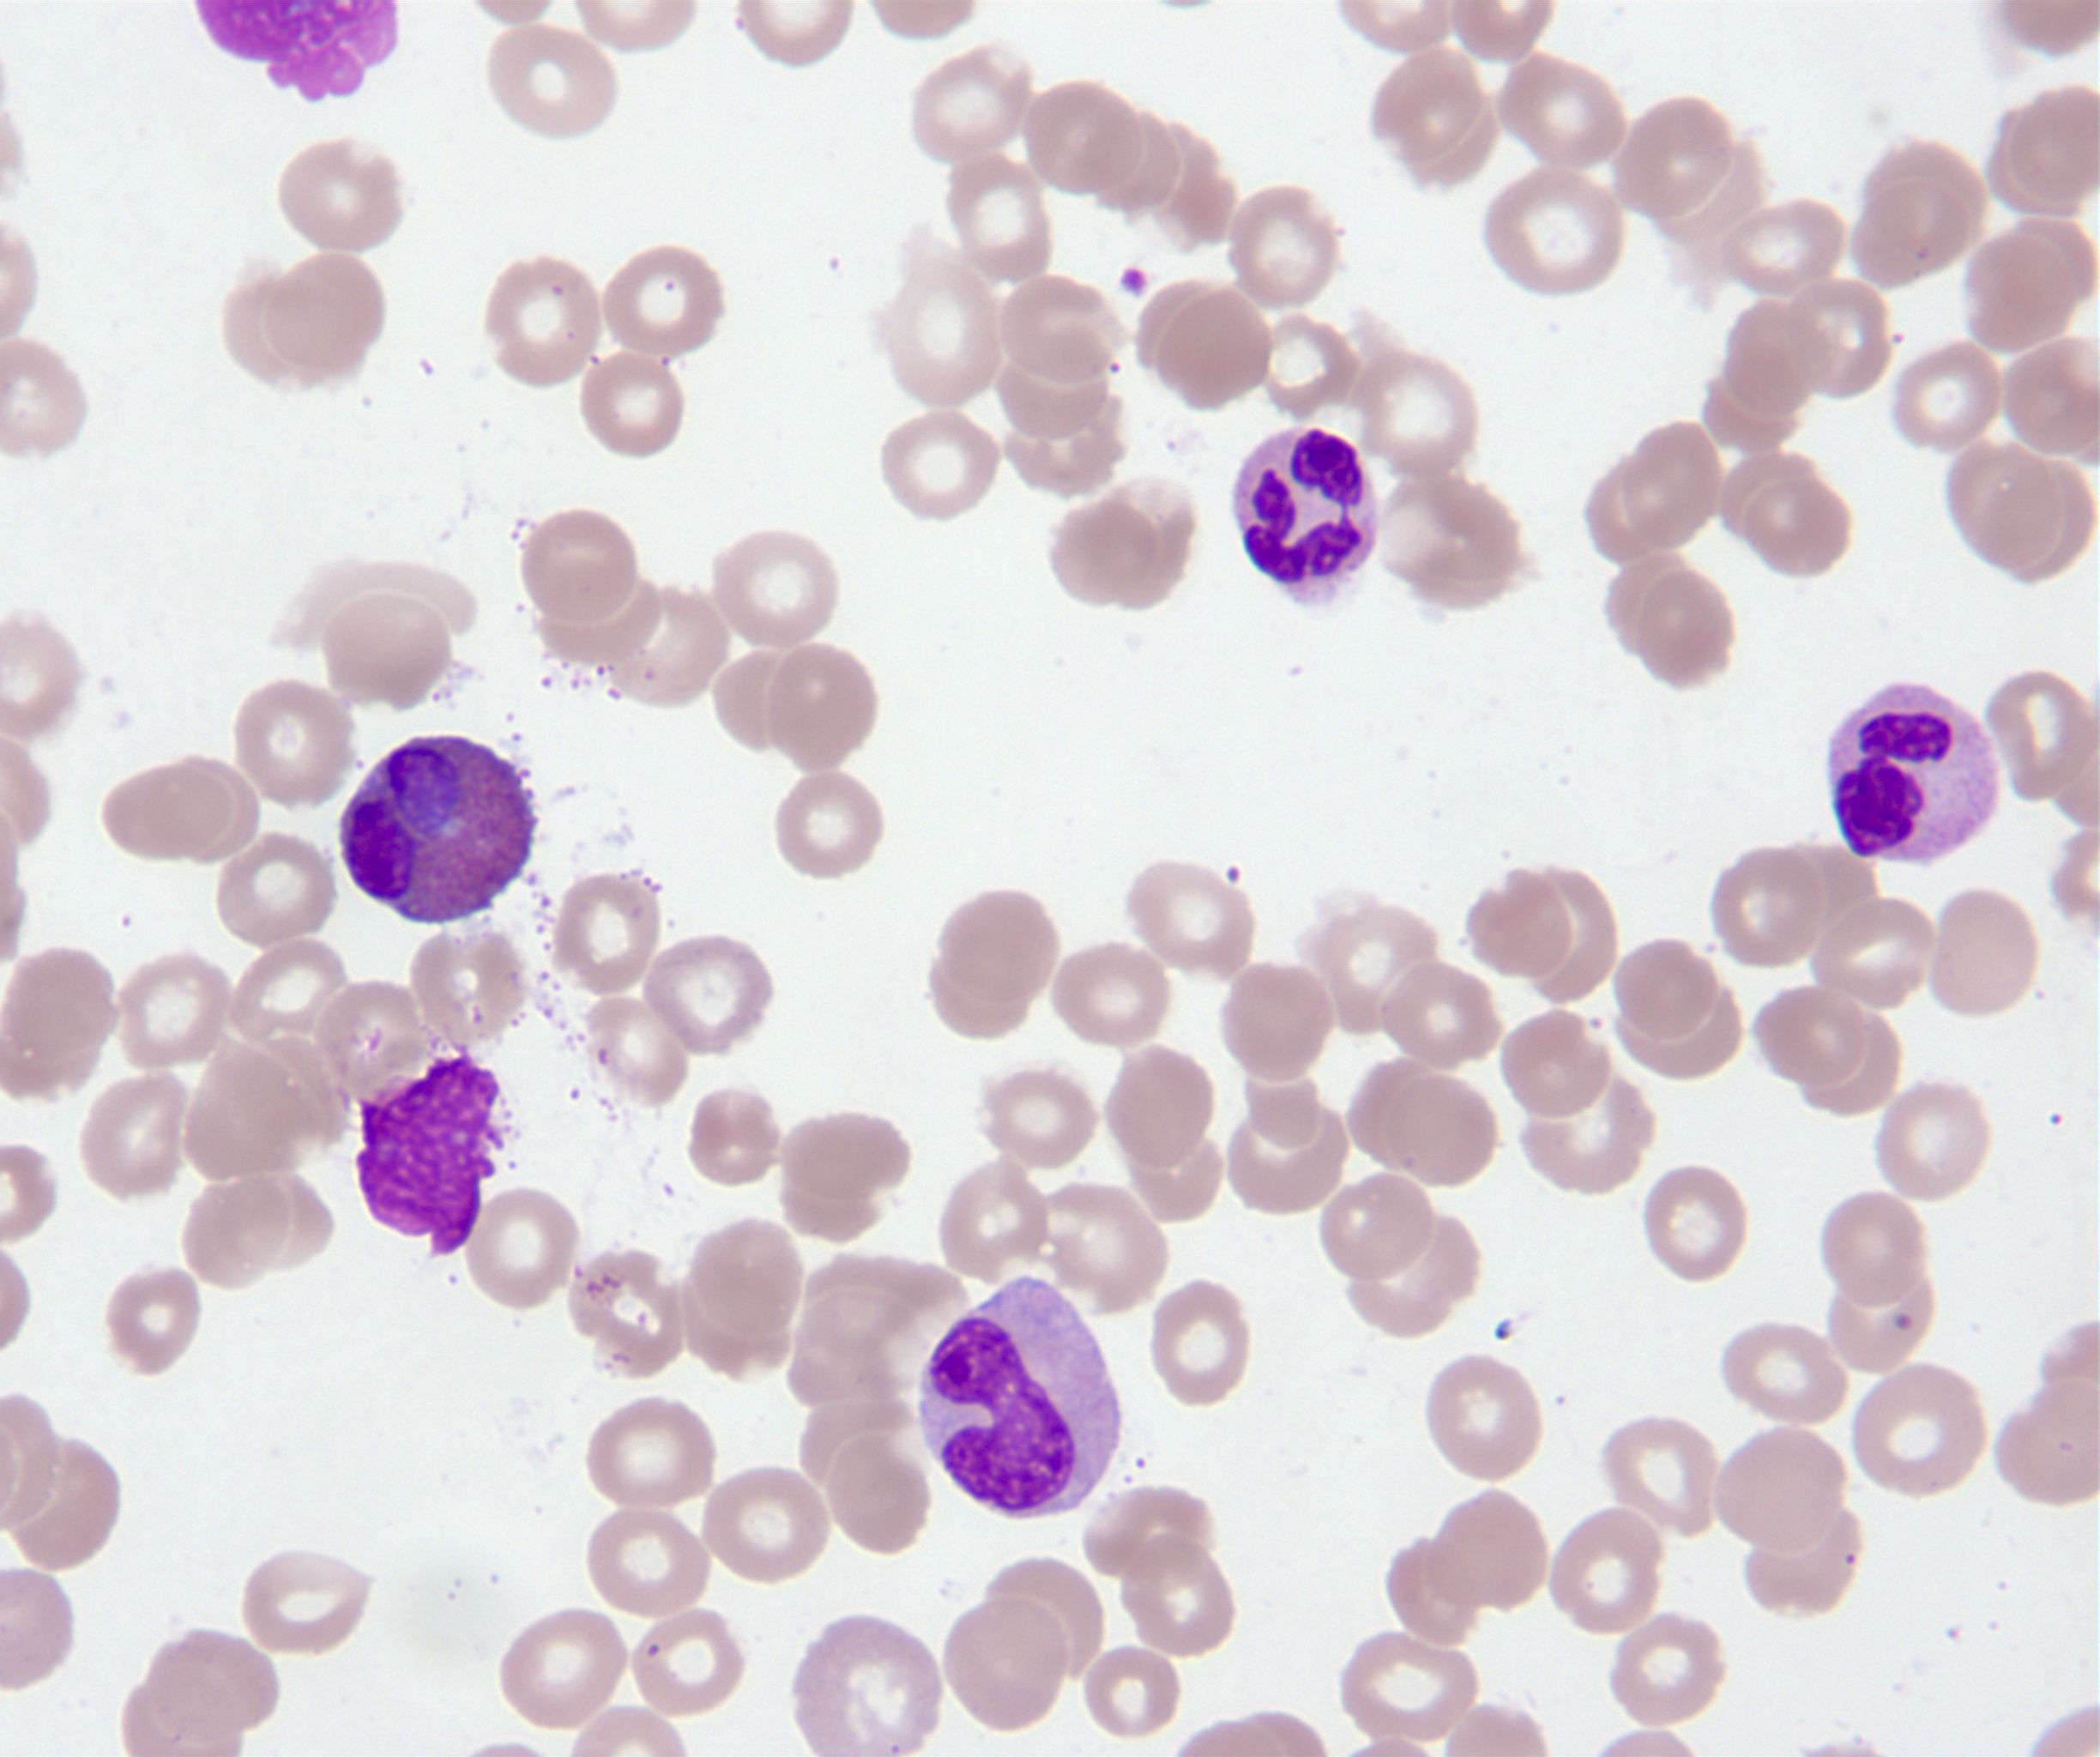4: (917, 1277, 1125, 1523)
6: (1830, 680, 2002, 862), (1230, 420, 1381, 602)
E4: (340, 731, 535, 925)
